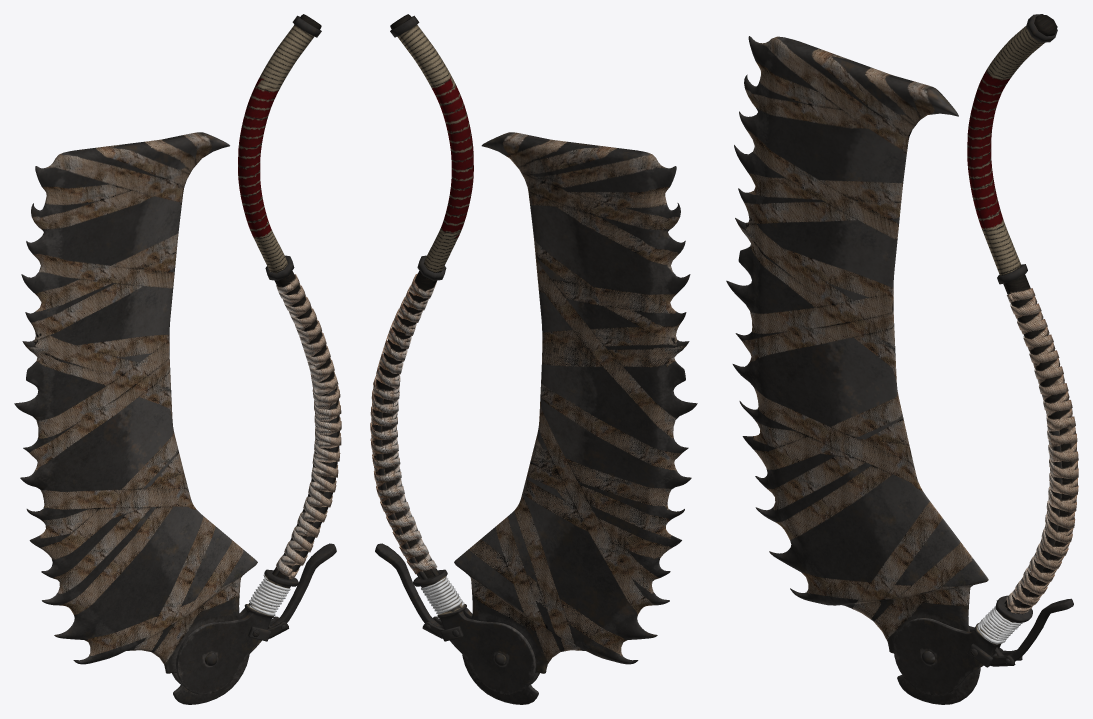
Rendered from saw cleaver high poly.fbx.
3 renders of one model, left to right at view 1: azimuth 30°, elevation 25°; view 2: azimuth 150°, elevation 25°; view 3: azimuth 330°, elevation 25°, orthographic. The views are drawn at different scales.
Parts seen in each view (by area): view 1: Blade high poly, handle high poly; view 2: Blade high poly, handle high poly; view 3: Blade high poly, handle high poly.
Part boxes in pixels (bbox=[...]): Blade high poly: bbox=[14, 132, 257, 704]; handle high poly: bbox=[172, 14, 341, 694]; Blade high poly: bbox=[454, 132, 697, 704]; handle high poly: bbox=[370, 14, 539, 694]; Blade high poly: bbox=[726, 36, 988, 704]; handle high poly: bbox=[893, 14, 1078, 695].
Size of the model in its own units: 47.87 by 93.21 by 4.16.
